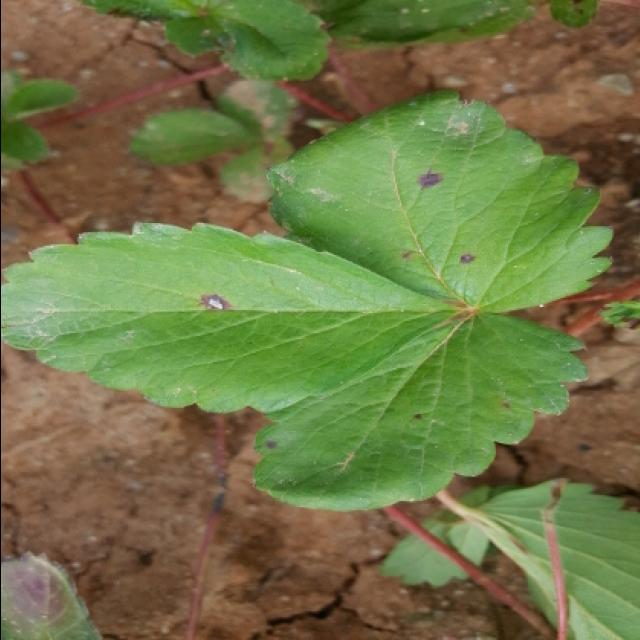Leaf Spot: (2, 220, 464, 416), (261, 87, 615, 313), (251, 310, 592, 513), (213, 138, 294, 202)
